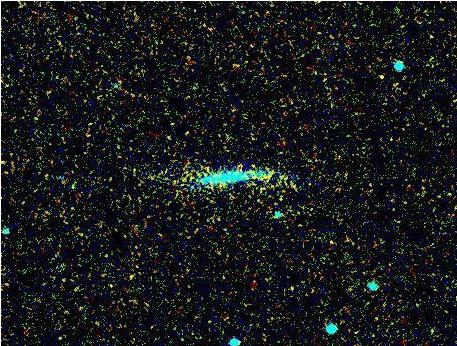star: (366, 60, 396, 90)
